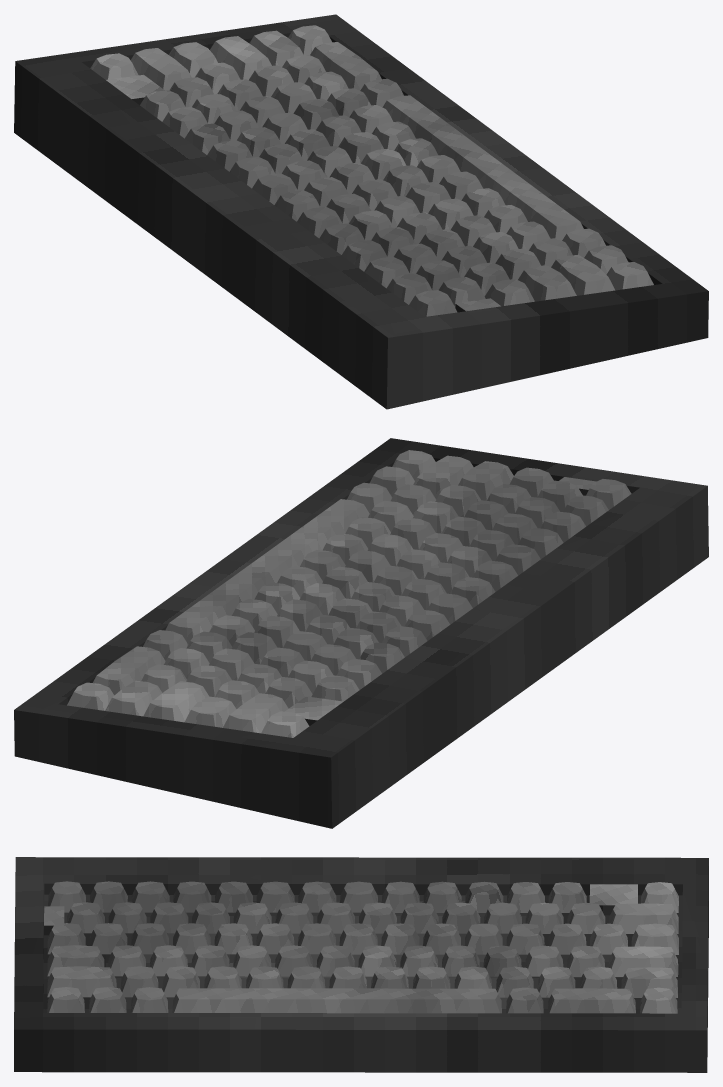
The model's file is Keyboard.glb.
3 renders of one model, top to bottom at view 1: azimuth 30°, elevation 25°; view 2: azimuth 150°, elevation 25°; view 3: azimuth 270°, elevation 25°, orthographic. The views are drawn at different scales.
Parts seen in each view (by area): view 1: Keyboard; view 2: Keyboard; view 3: Keyboard.
Part boxes in pixels (x1,y1,x2,y2): Keyboard: (14, 14, 708, 409); Keyboard: (14, 438, 708, 828); Keyboard: (14, 857, 708, 1072).
Size of the model in its own units: 1.09 by 0.2593 by 2.2.
1 material, 1 textured.
